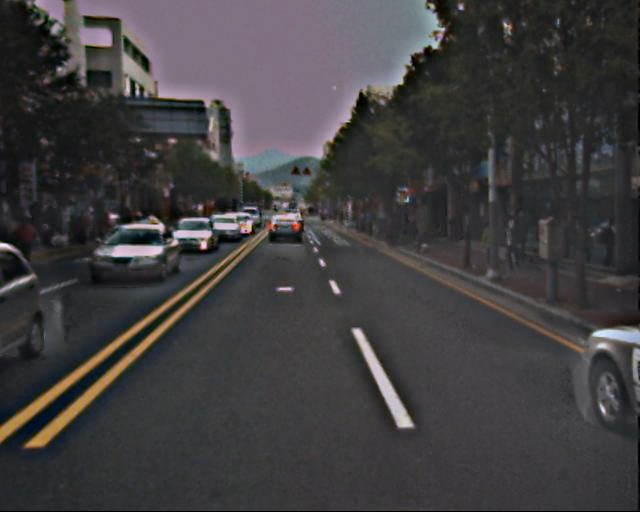person: (496, 213, 519, 270), (580, 222, 596, 262), (516, 213, 532, 252)
